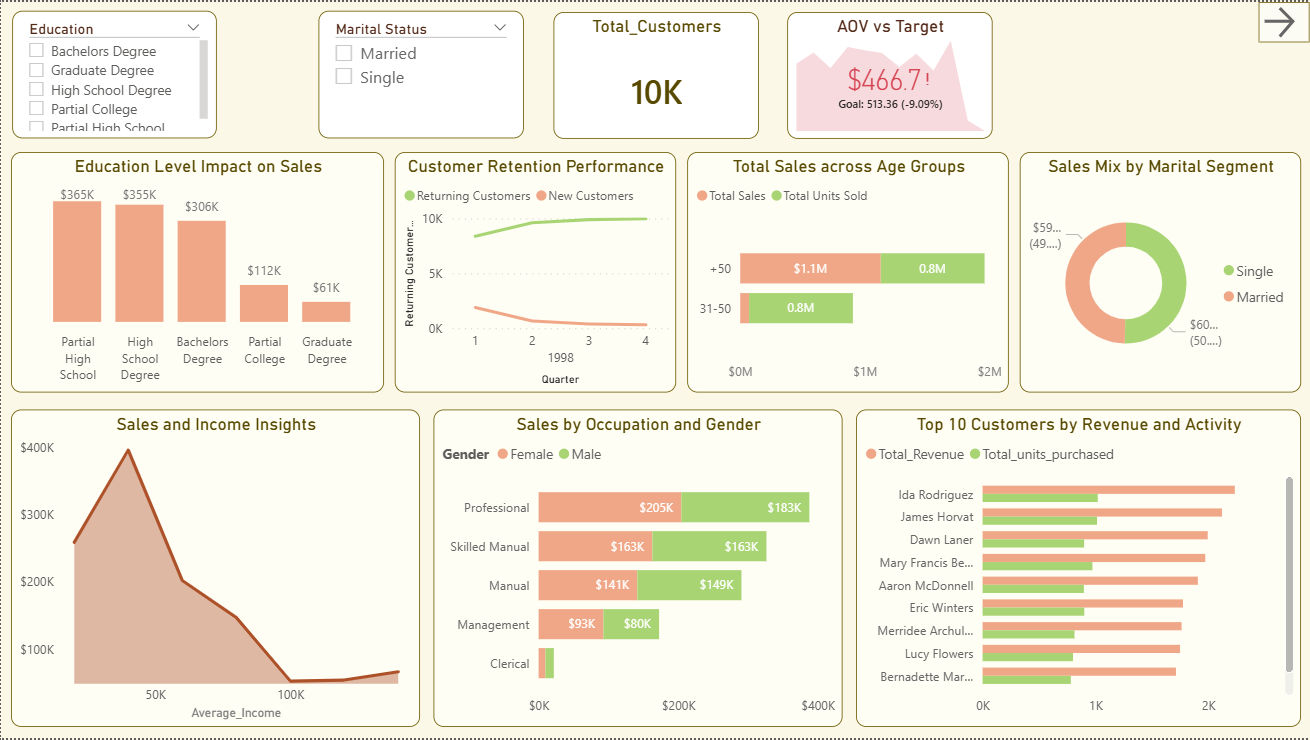

The dashboard page shown, as its layout file describes it:
{"tool":"powerbi","page":{"name":"Customer Behavior","canvas":[1280,720],"ordinal":1},"visuals":[{"type":"clusteredBarChart","title":"Top 10 Customers by Revenue and Activity","fields":{"Category":["vw_Top10_Customers_By_Transactions.Customer Name"],"Y":["Sum(vw_Top10_Customers_By_Transactions.Total_Revenue)","Sum(vw_Top10_Customers_By_Transactions.Total_units_purchased)"]},"box":[836.9,398.6,435,310],"z":0,"group":"g2"},{"type":"slicer","title":"Select Region","fields":{"Values":["Dim_Customers.Marital_status"]},"box":[310.4,8.1,200.5,124.9],"z":1000,"group":"g3"},{"type":"group","id":"g1","title":"Group 2","box":[10,147.1,1261.6,235.3],"z":1000},{"type":"areaChart","title":"Sales and Income Insights","fields":{"Category":["Dim_Customers.Average_Income"],"Y":["Dax_Measures.Total Sales"]},"box":[10,398.6,400,310],"z":1000,"group":"g2"},{"type":"group","id":"g2","title":"Group 3","box":[10,398.6,1261.9,310],"z":2000},{"type":"barChart","title":"Sales by Occupation and Gender","fields":{"Category":["Dim_Customers.Occupation"],"Y":["Dax_Measures.Total Sales"],"Series":["Dim_Customers.Gender"]},"box":[423.5,398.6,400,310],"z":2000,"group":"g2"},{"type":"slicer","title":"Education Level","fields":{"Values":["Dim_Customers.Education"]},"box":[10.5,8.1,200,124.4],"z":3000},{"type":"barChart","title":"Total Sales across Age Groups","fields":{"Category":["Dim_Customers.Age Group"],"Y":["Dax_Measures.Total Sales","Dax_Measures.Total Units Sold"]},"box":[671.4,147.1,314.6,235.3],"z":3000,"group":"g1"},{"type":"group","id":"g3","title":"Group 1","box":[310.4,8.1,659.2,124.9],"z":4000},{"type":"cardVisual","title":"Total_Customers","fields":{"Data":["Dax_Measures.Total Customers"]},"box":[539.7,9.3,200.5,123.7],"z":4000,"group":"g3"},{"type":"actionButton","box":[1230.1,0,50.1,39.6],"z":5000},{"type":"donutChart","title":"Sales Mix by Marital Segment","fields":{"Category":["Dim_Customers.Marital_status"],"Y":["Dax_Measures.Total Sales"]},"box":[996.6,147.1,275,235.3],"z":5000,"group":"g1"},{"type":"kpi","title":"AOV vs Target","fields":{"Indicator":["Dax_Measures.Average Order Value"],"Goal":["Dax_Measures.AOV Target"],"TrendLine":["Dim_Calendar.Month"]},"box":[769.1,9.3,200.5,123.7],"z":6000,"group":"g3"},{"type":"columnChart","title":"Education Level Impact on Sales","fields":{"Category":["Dim_Customers.Education"],"Y":["Dax_Measures.Total Sales"]},"box":[10,147.1,365,235.3],"z":6000,"group":"g1"},{"type":"lineChart","title":"Customer Retention Performance","fields":{"Y":["Dax_Measures.Returning Customers","Dax_Measures.New Customers"],"Category":["Dim_Calendar.Year Hierarchy.Year","Dim_Calendar.Year Hierarchy.Quarter","Dim_Calendar.Year Hierarchy.Month","Dim_Calendar.Year Hierarchy.Day"]},"box":[385.7,147.1,275,235.3],"z":7000,"group":"g1"}]}

Visuals, with their boxes in screenshot pixels (x1, y1, x2, y2), scaled from the page's 1280x720 canvas onto the 1310x740 screenshot:
"Top 10 Customers by Revenue and Activity" clusteredBarChart: [857,410,1302,728]
"Select Region" slicer: [318,8,523,137]
"Group 2" group: [10,151,1301,393]
"Sales and Income Insights" areaChart: [10,410,420,728]
"Group 3" group: [10,410,1302,728]
"Sales by Occupation and Gender" barChart: [433,410,843,728]
"Education Level" slicer: [11,8,215,136]
"Total Sales across Age Groups" barChart: [687,151,1009,393]
"Group 1" group: [318,8,992,137]
"Total_Customers" cardVisual: [552,10,758,137]
actionButton: [1259,0,1309,41]
"Sales Mix by Marital Segment" donutChart: [1020,151,1301,393]
"AOV vs Target" kpi: [787,10,992,137]
"Education Level Impact on Sales" columnChart: [10,151,384,393]
"Customer Retention Performance" lineChart: [395,151,676,393]
